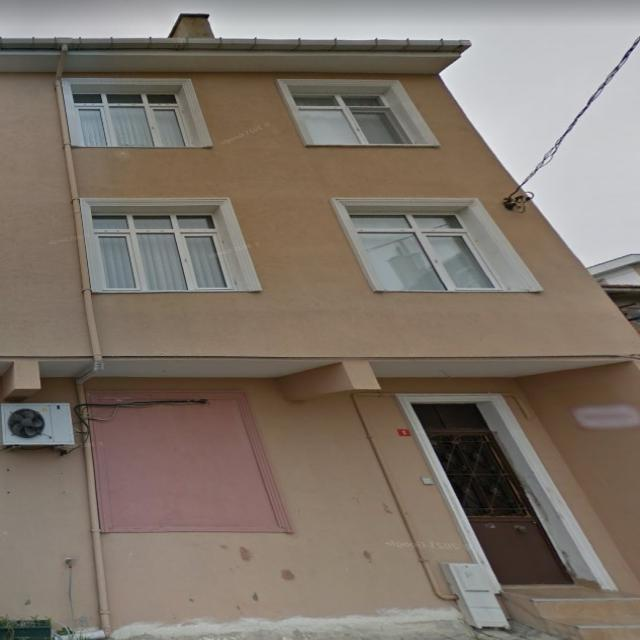Building: (0, 35, 640, 640)
